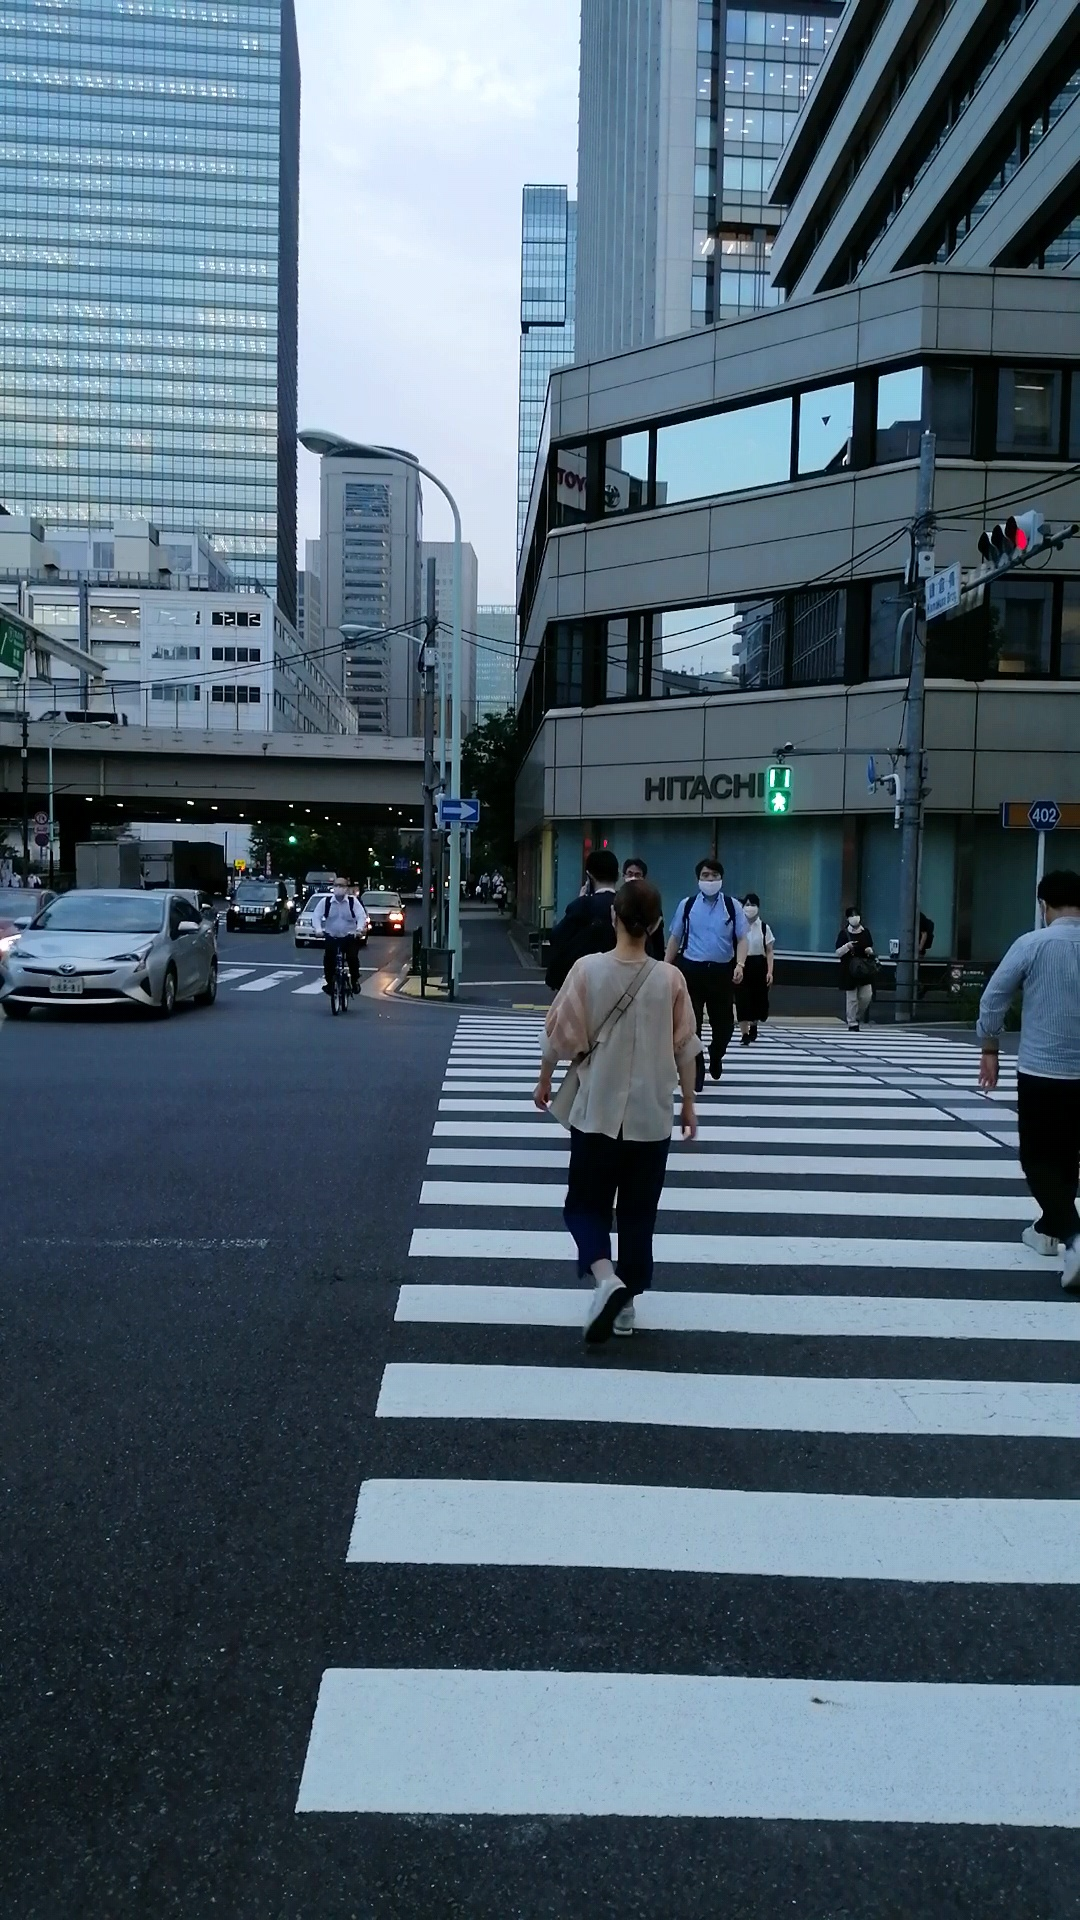green: (764, 764, 794, 818)
